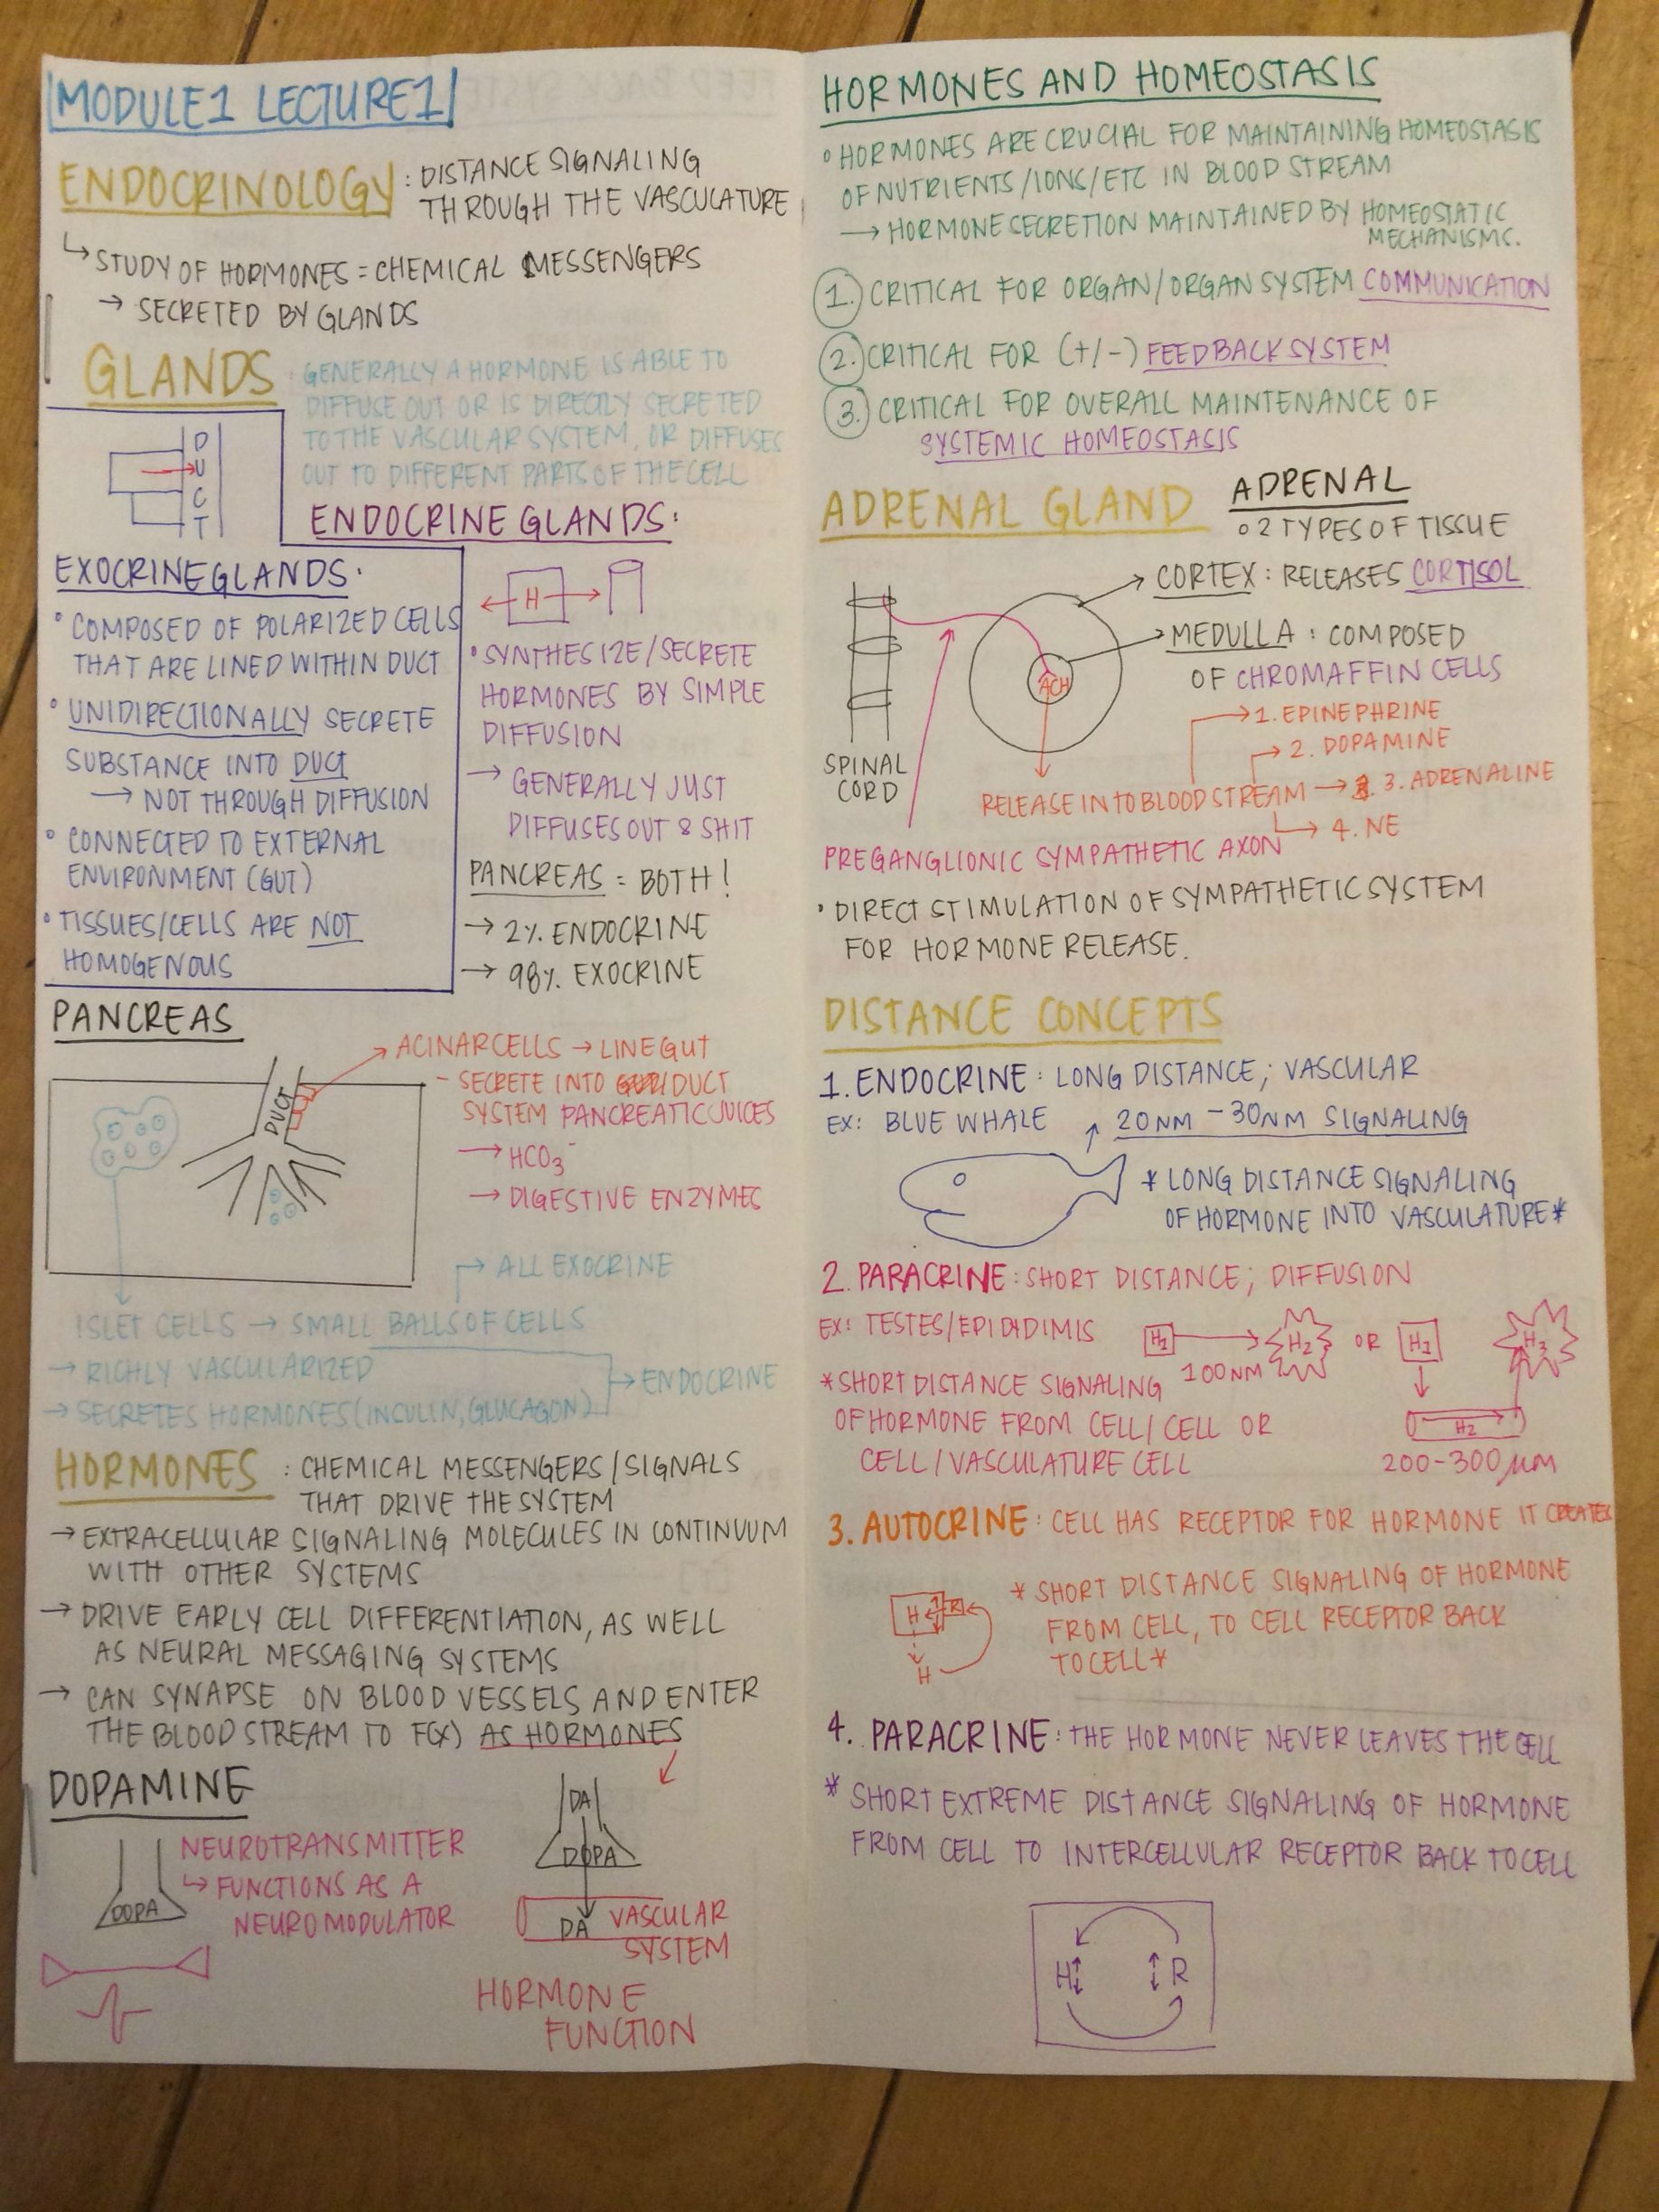page: (38, 56, 1589, 2062)
